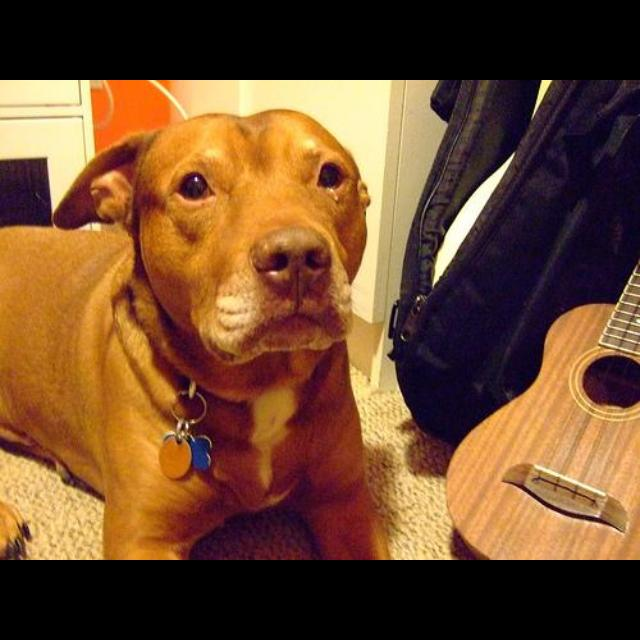amstaff: (2, 109, 393, 560)
